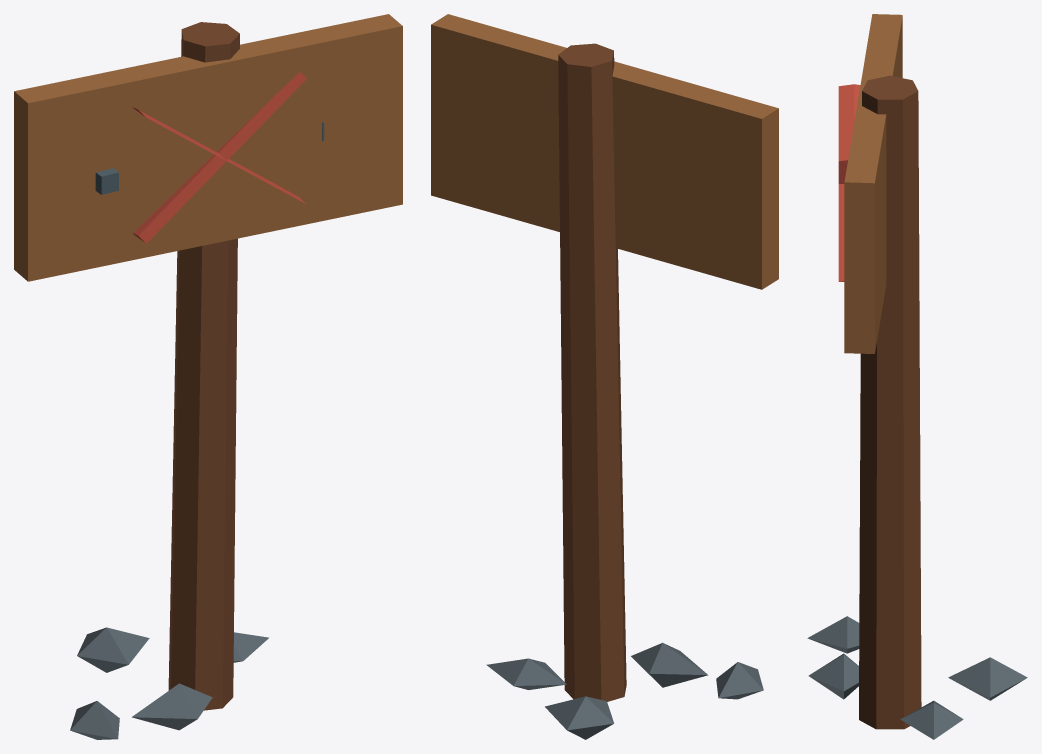
Rendered from warning_sign.glb.
3 renders of one model, left to right at view 1: azimuth 30°, elevation 25°; view 2: azimuth 150°, elevation 25°; view 3: azimuth 270°, elevation 25°, orthographic. The views are drawn at different scales.
Parts seen in each view (by area): view 1: warning_sign.001; view 2: warning_sign.001; view 3: warning_sign.001.
Boxes of the visible parts, <box> form: warning_sign.001: <box>14,14,402,739</box>; warning_sign.001: <box>431,14,778,739</box>; warning_sign.001: <box>807,14,1027,739</box>.
Size of the model in its own units: 0.8313 by 1.46 by 0.4584.
